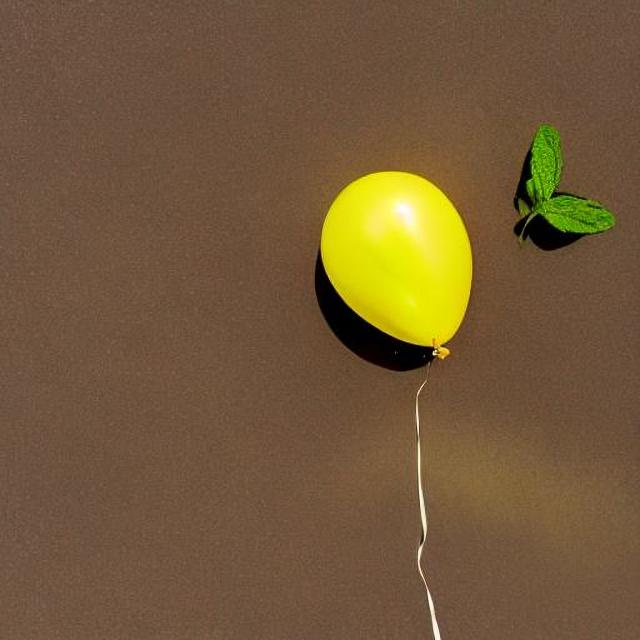balloon: (307, 163, 475, 369)
